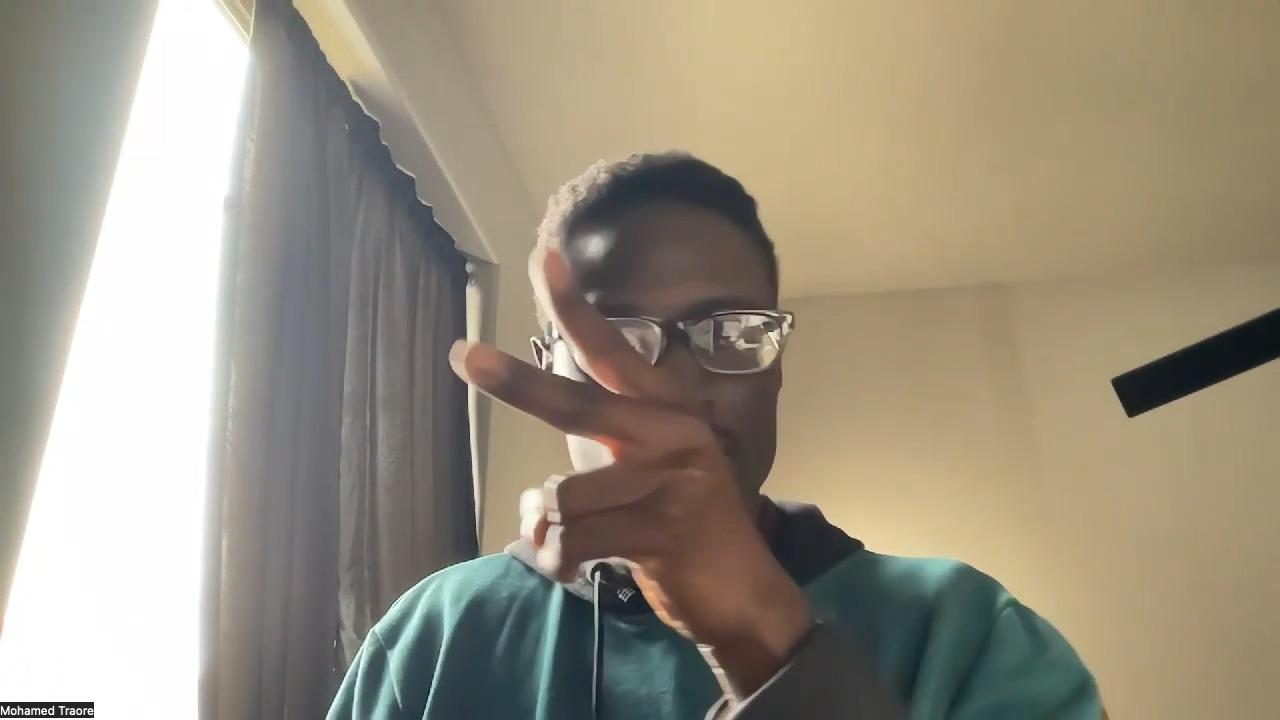Scissors: (448, 245, 791, 650)
